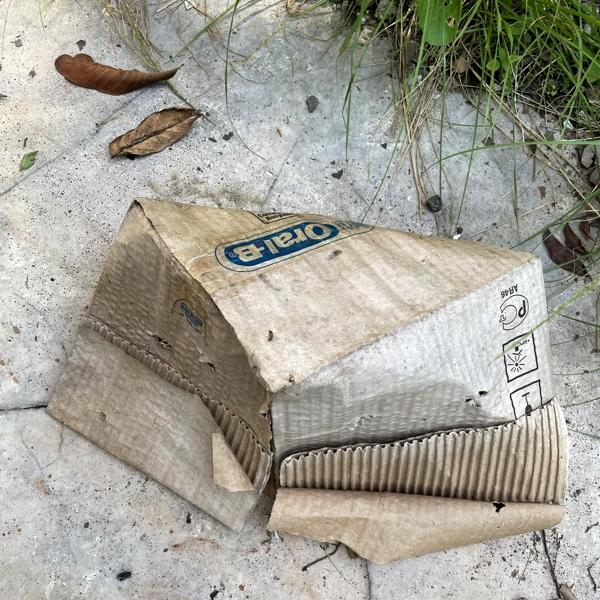Organik: (53, 181, 586, 563)
